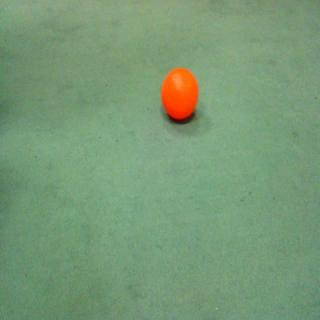orange: (156, 66, 202, 130)
